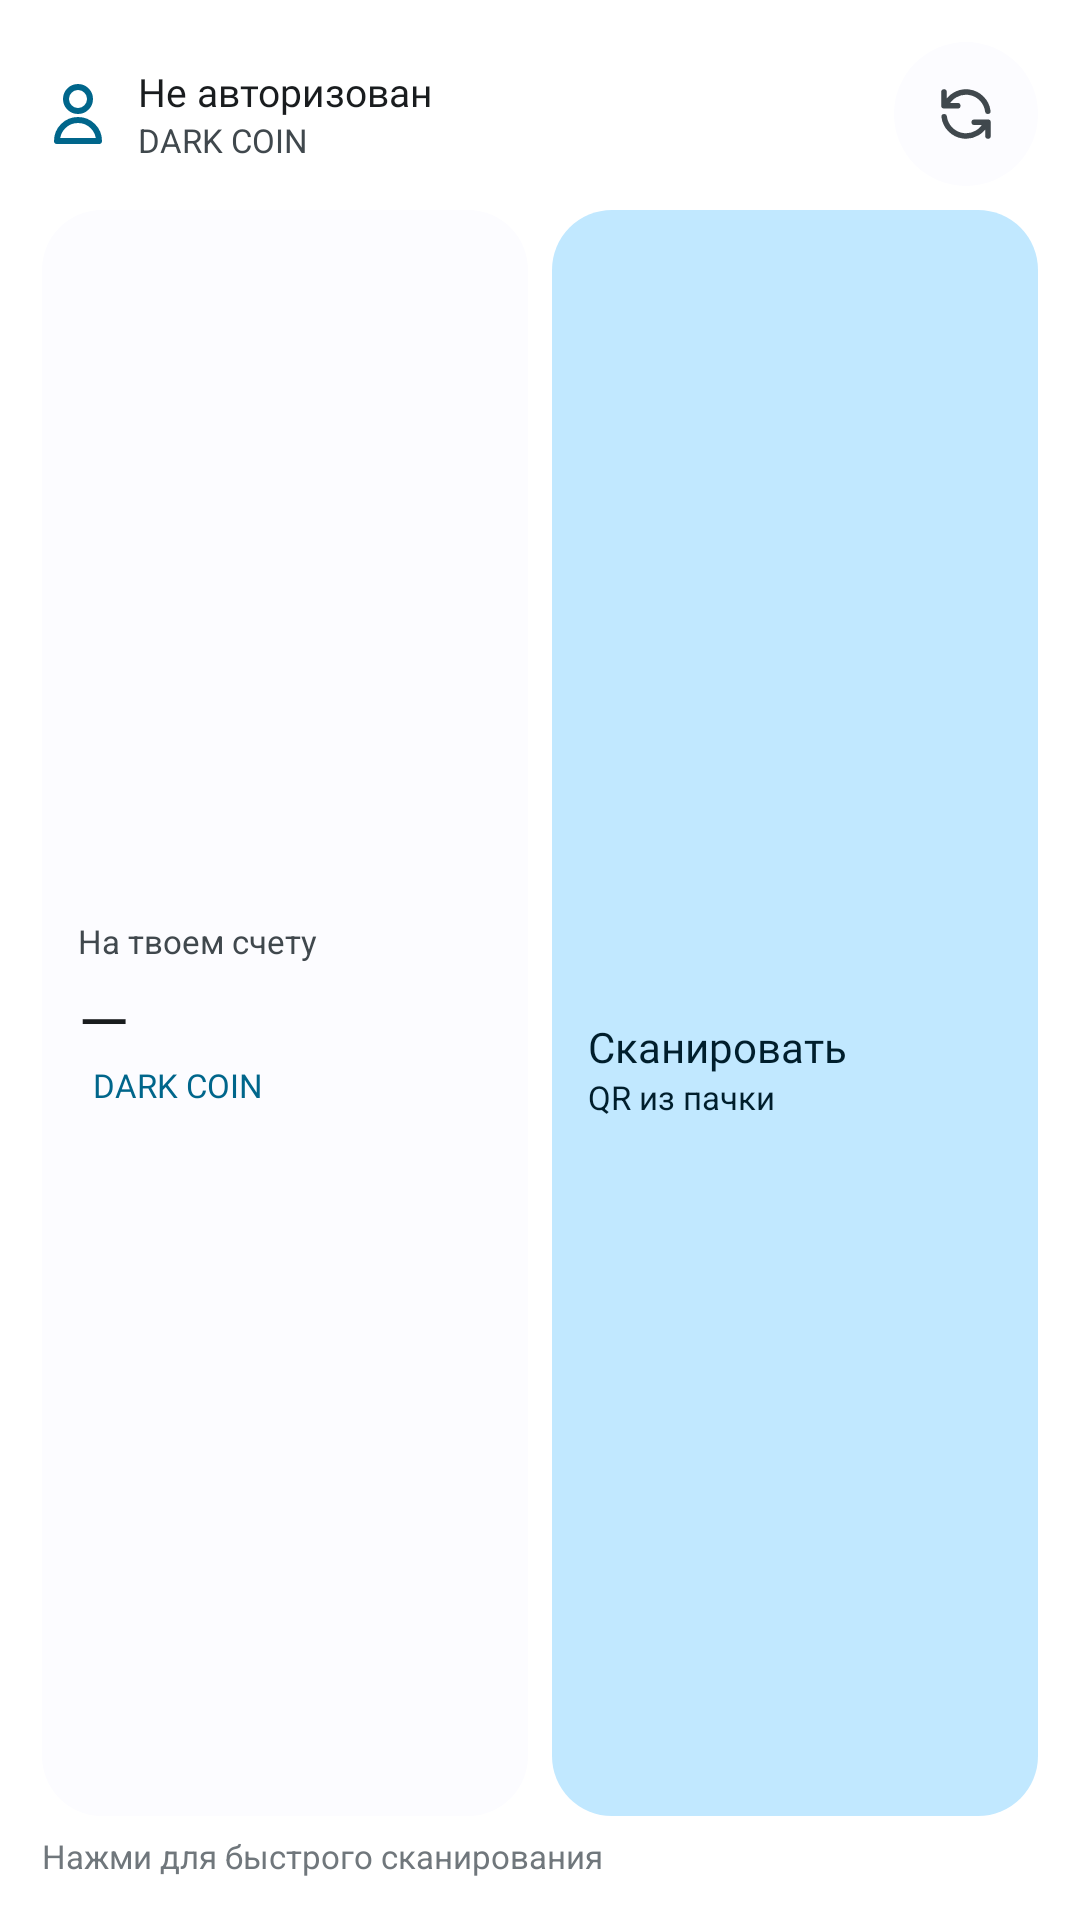

Icon bounding boxes for this 1080 × 1920 phone screenshot, format (x1=x1, y1=y1, x2=x2, y2=y2):
user: (x1=54, y1=84, x2=102, y2=144)
Обновить баланс: (x1=941, y1=89, x2=991, y2=139)
